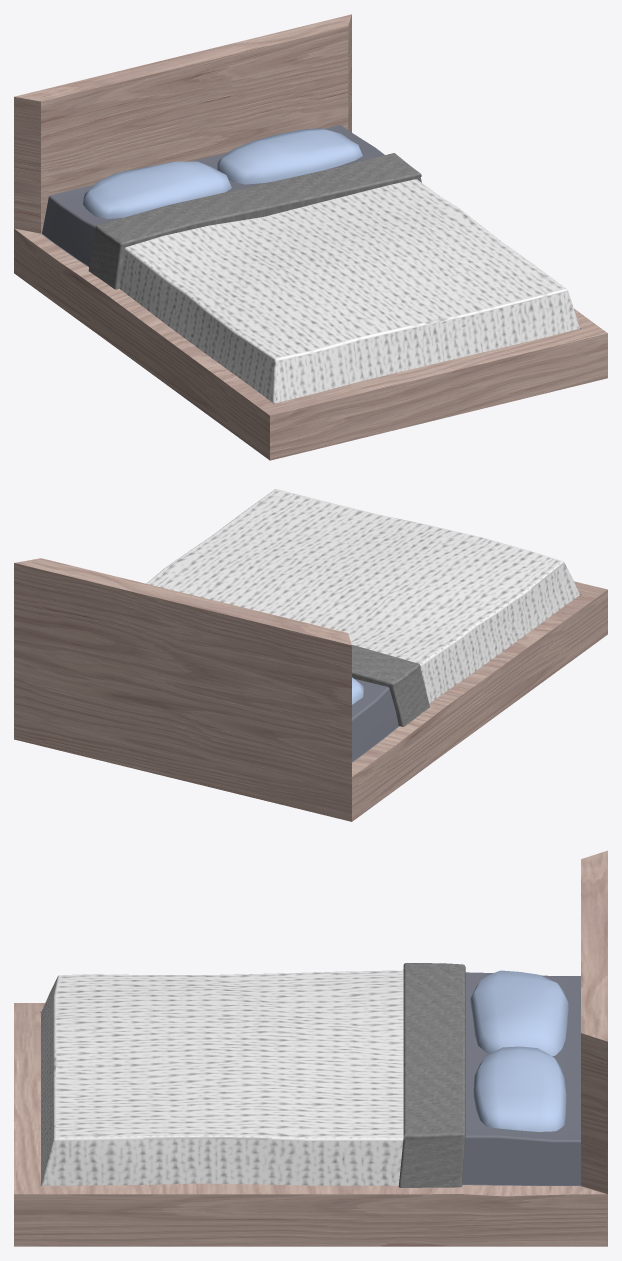
The model's file is Bed Final.fbx.
The picture shows the model from 3 angles, top to bottom: view 1: azimuth 30°, elevation 25°; view 2: azimuth 150°, elevation 25°; view 3: azimuth 270°, elevation 25°; orthographic projection. The views are drawn at different scales.
Visible parts, largest first — view 1: Bed; view 2: Bed; view 3: Bed.
Boxes of the visible parts, x1,y1,x2,y2 form: Bed: (14, 14, 607, 460); Bed: (14, 489, 607, 821); Bed: (14, 850, 607, 1246).
Size of the model in its own units: 4.51 by 2.25 by 5.92.
